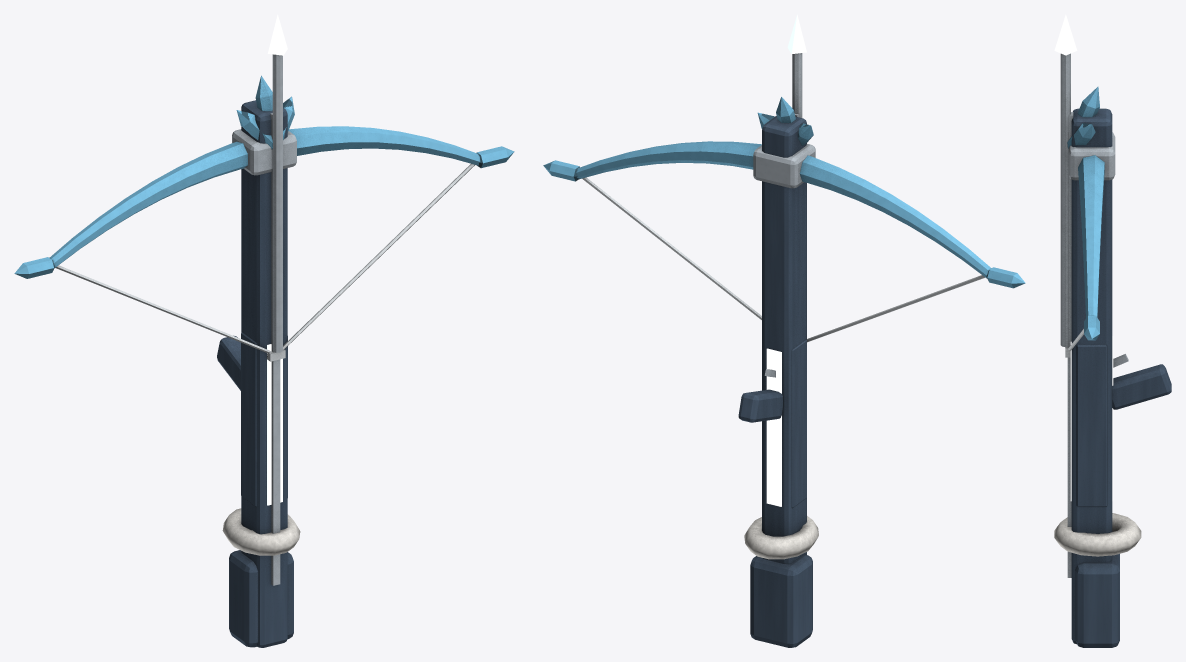
The model's file is 04_tundra_ranged.fbx.
The picture shows the model from 3 angles, left to right: view 1: azimuth 30°, elevation 25°; view 2: azimuth 150°, elevation 25°; view 3: azimuth 270°, elevation 25°; orthographic projection. The views are drawn at different scales.
Parts seen in each view (by area): view 1: Weapon; view 2: Weapon; view 3: Weapon.
Boxes of the visible parts, box(x1,y1,x2,y2) form: Weapon: box(14, 14, 514, 647); Weapon: box(543, 14, 1025, 647); Weapon: box(1054, 14, 1171, 647).
Bounding box in the file's own units: 115 × 140 × 23.84.
2 materials, 1 textured.
